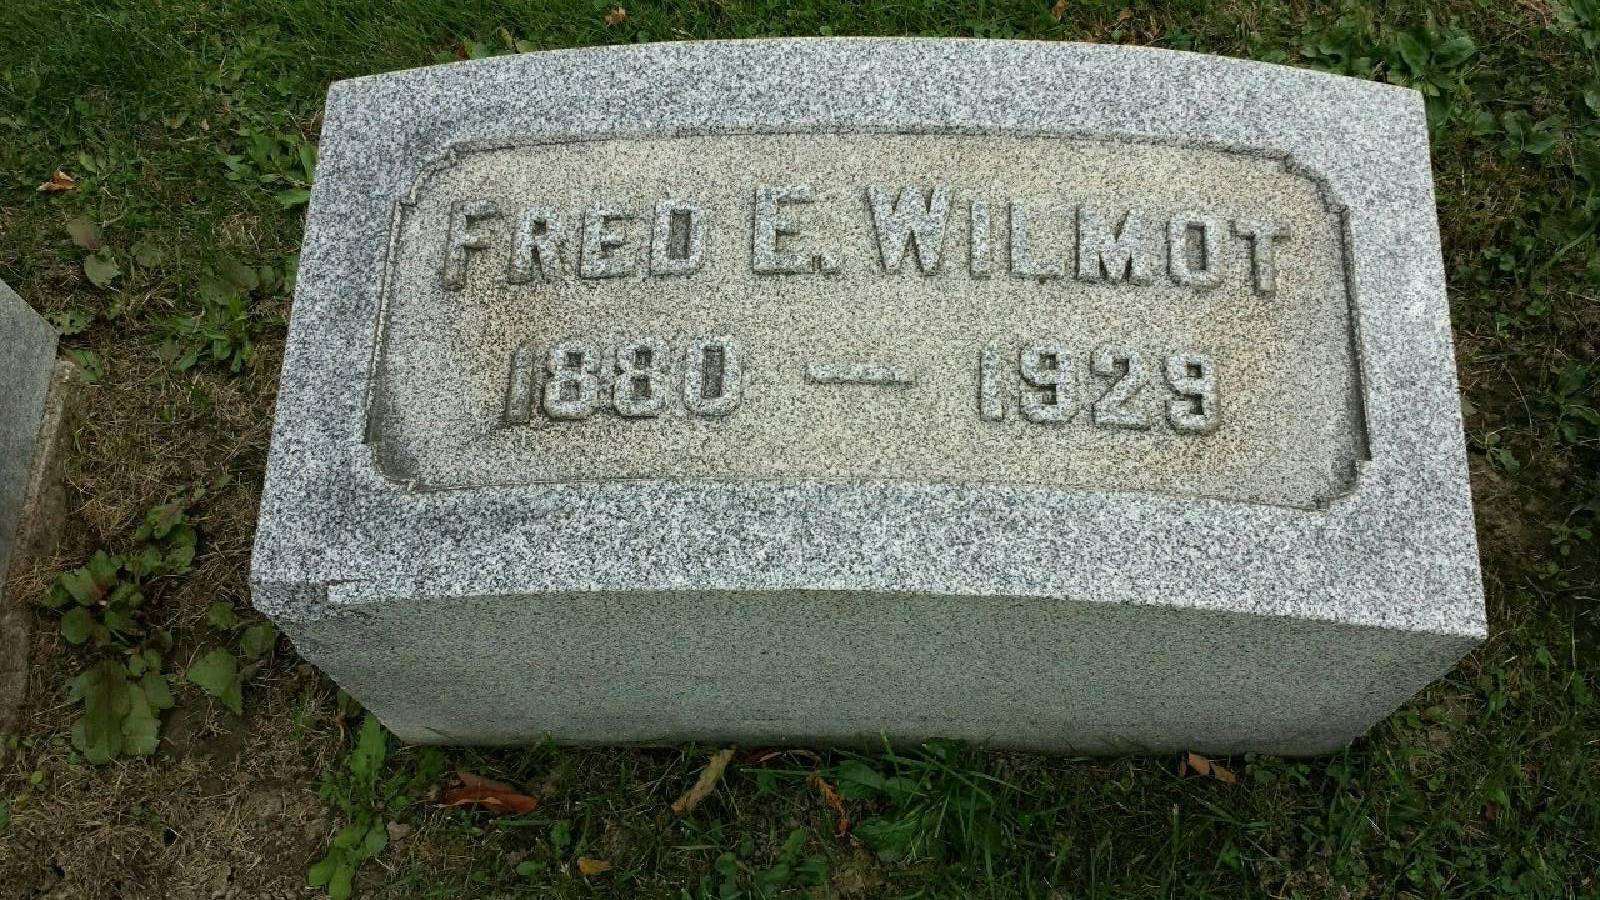flat: (245, 24, 1488, 771)
